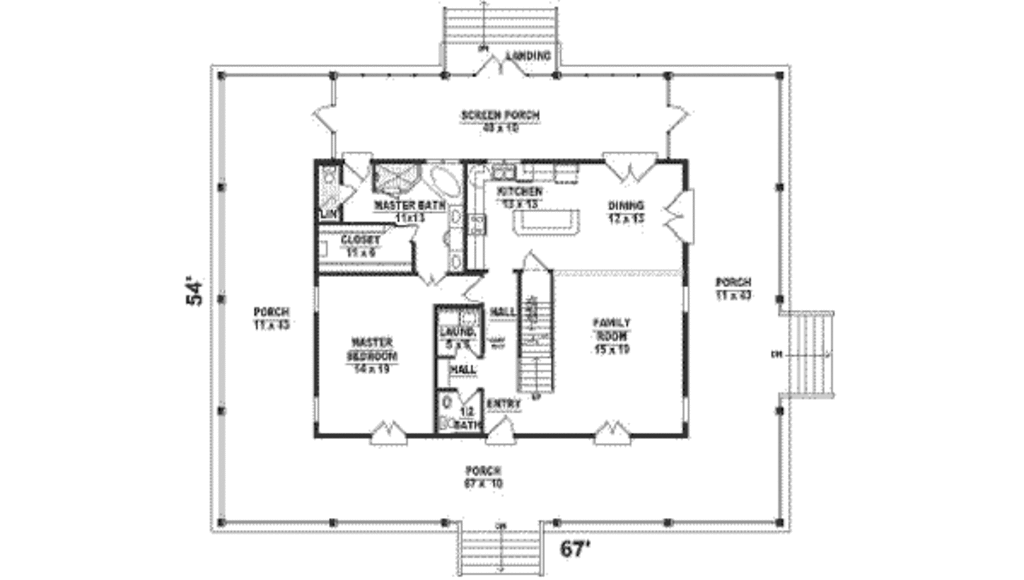door: (659, 189, 695, 243), (605, 157, 655, 183), (368, 419, 407, 447), (662, 99, 691, 133), (594, 420, 631, 446), (310, 100, 338, 132)
large_sofa: (510, 207, 584, 238)
stairs: (767, 306, 839, 400), (455, 516, 555, 579), (437, 4, 559, 51), (518, 272, 555, 398)
tub: (420, 162, 468, 206)
